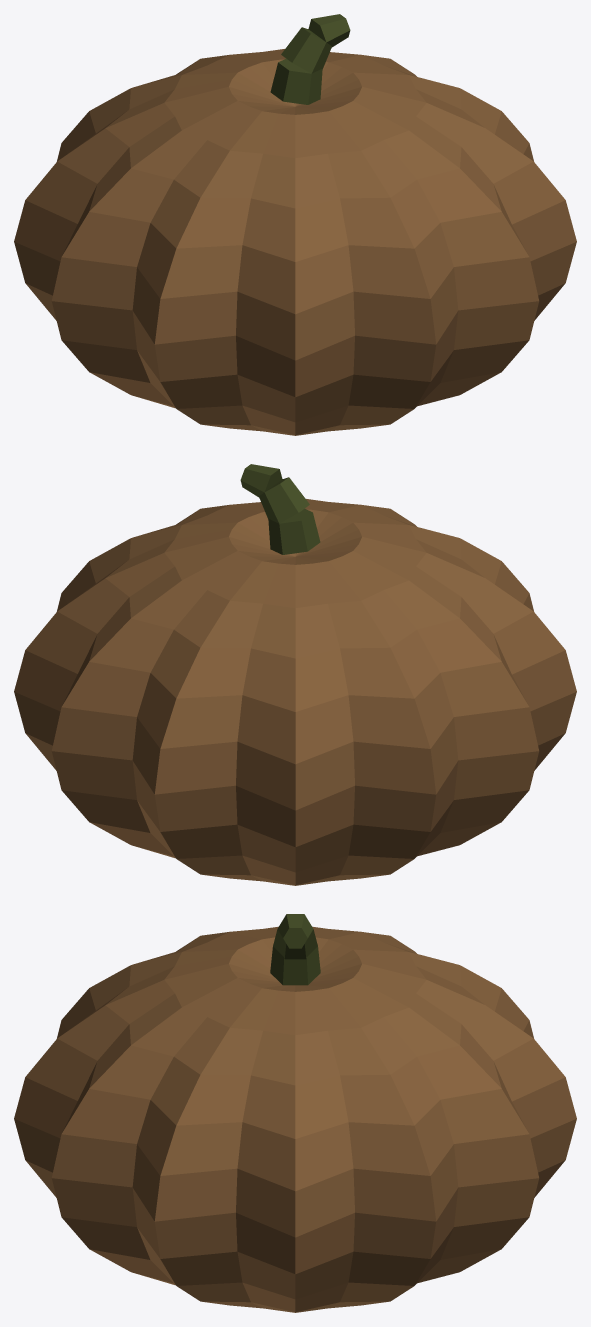
File: pumpkin_prize_sad.glb
The picture shows the model from 3 angles, top to bottom: view 1: azimuth 30°, elevation 25°; view 2: azimuth 150°, elevation 25°; view 3: azimuth 270°, elevation 25°; orthographic projection.
Parts seen in each view (by area): view 1: Pumpkin; view 2: Pumpkin; view 3: Pumpkin.
Boxes of the visible parts, bbox=[...] form: Pumpkin: bbox=[14, 14, 576, 435]; Pumpkin: bbox=[14, 464, 576, 885]; Pumpkin: bbox=[14, 914, 576, 1312].
Size of the model in its own units: 0.7 by 0.5142 by 0.7.
